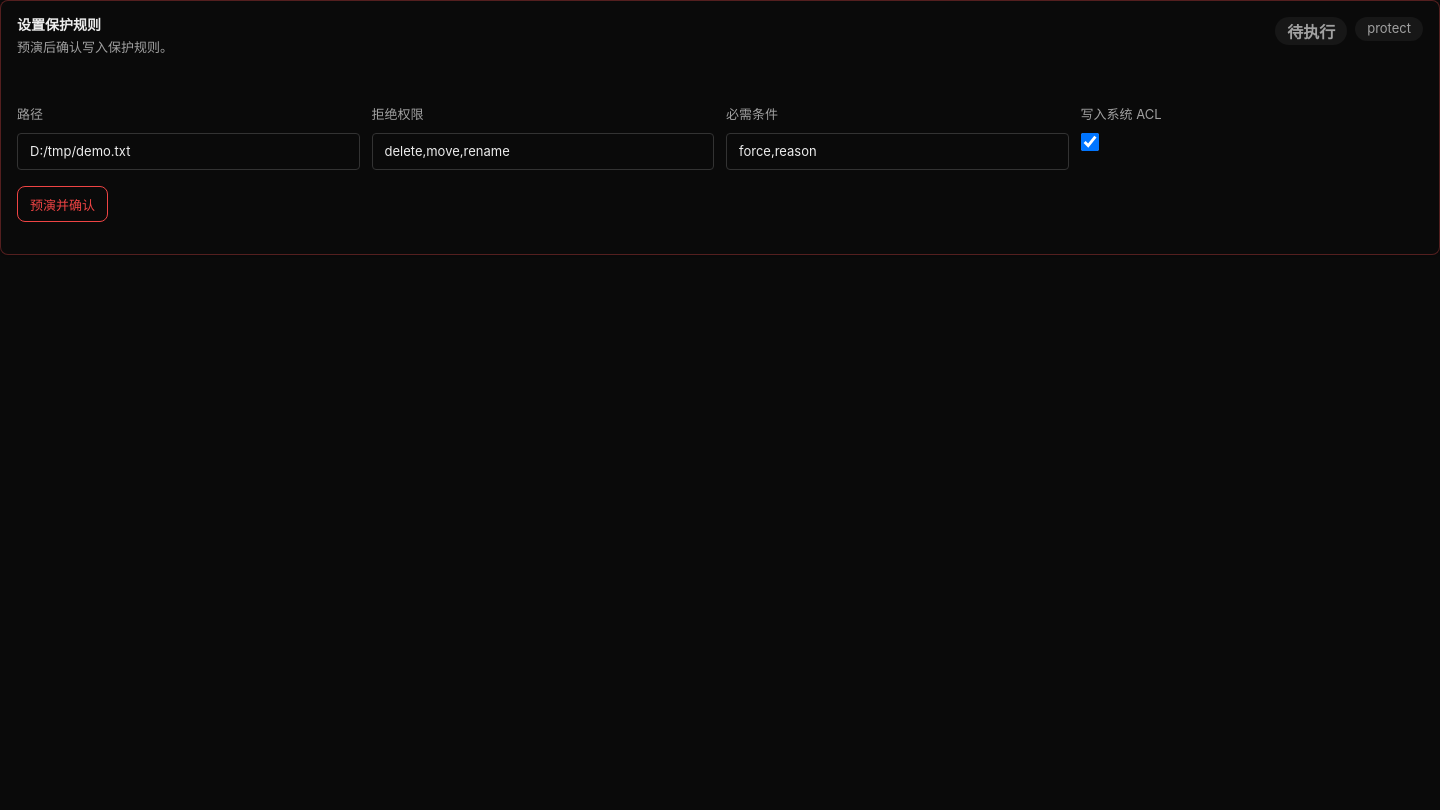
TaskToolCard › renders governance preview summary for protect:set tasks
The image size is (1440, 810).
Click the button "预演并确认": (62, 204) [17,186,108,222]
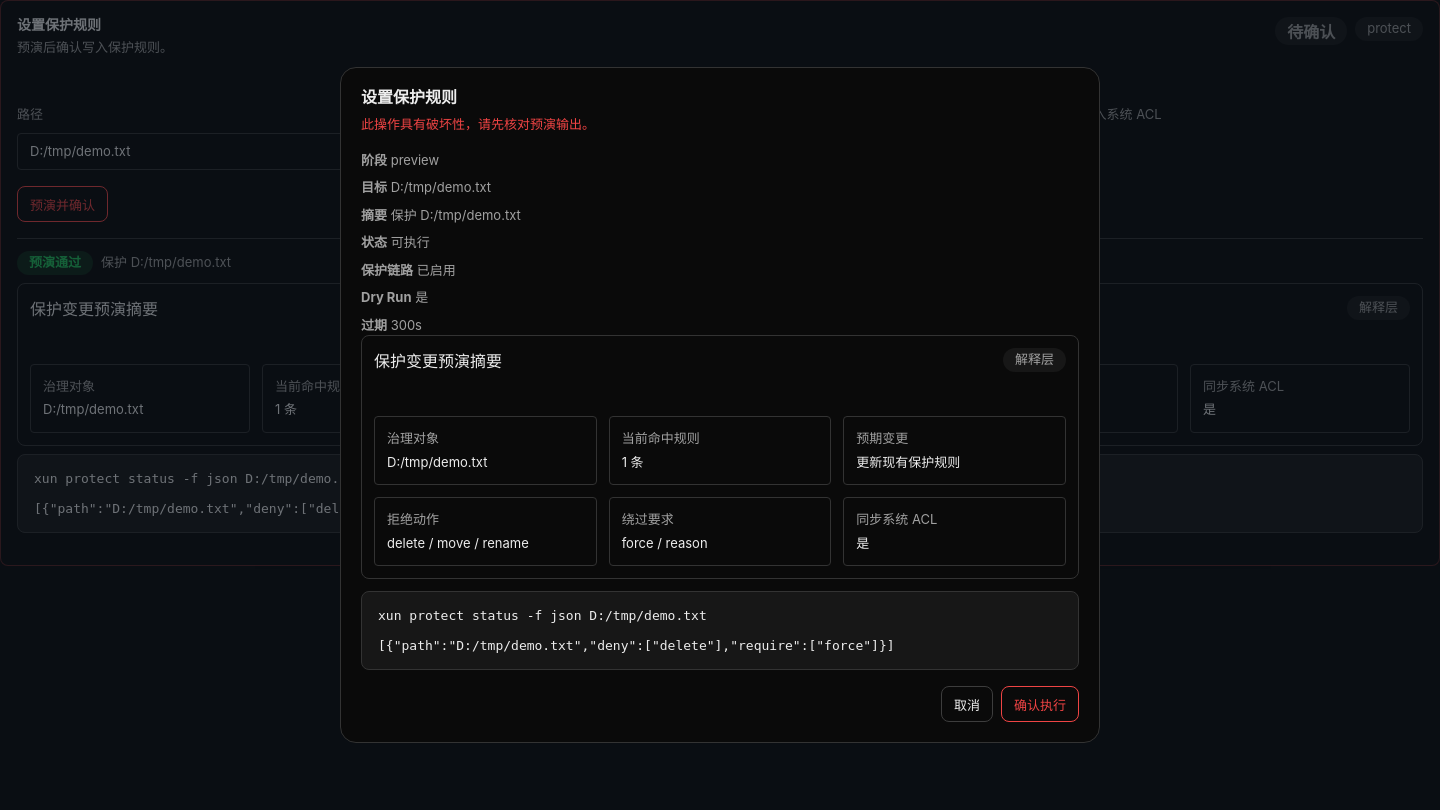
Result: the text "更新现有保护规则" is shown at [507,401,611,417]
Result: the text "delete / move / rename" is shown at [739,401,881,417]
Result: the element with test id "governance-summary-preview" shows "保护变更预演摘要" at [30,299,158,319]
